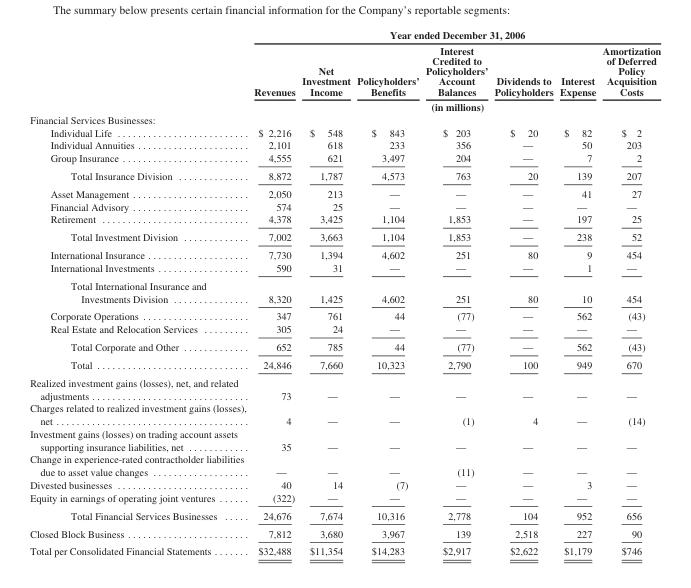table: (29, 28, 660, 556)
table column: (29, 28, 249, 556), (421, 28, 490, 556), (353, 28, 421, 556), (490, 28, 555, 556), (598, 28, 660, 556), (297, 28, 353, 556), (249, 28, 297, 556), (555, 28, 598, 556)
table column header: (29, 28, 660, 112)
table projected row header: (29, 112, 660, 125)
table row: (29, 42, 660, 98), (29, 276, 660, 307), (29, 373, 660, 401), (29, 401, 660, 427), (29, 452, 660, 478), (29, 427, 660, 452), (29, 166, 660, 184), (29, 227, 660, 245), (29, 337, 660, 355), (29, 355, 660, 373), (29, 506, 660, 524), (29, 524, 660, 542), (29, 245, 660, 261), (29, 490, 660, 506), (29, 151, 660, 166), (29, 184, 660, 199), (29, 212, 660, 227), (29, 261, 660, 276), (29, 307, 660, 322), (29, 322, 660, 337), (29, 28, 660, 42), (29, 98, 660, 112), (29, 542, 660, 556), (29, 112, 660, 125), (29, 125, 660, 138), (29, 138, 660, 151), (29, 199, 660, 212), (29, 478, 660, 490)
table spanning cell: (249, 28, 660, 42), (249, 98, 660, 112)
